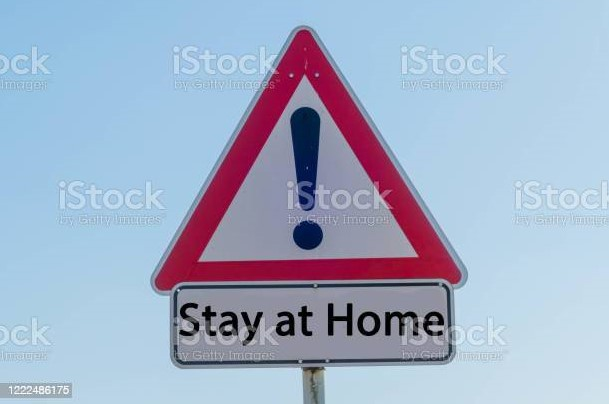Danger: (149, 22, 470, 290)
